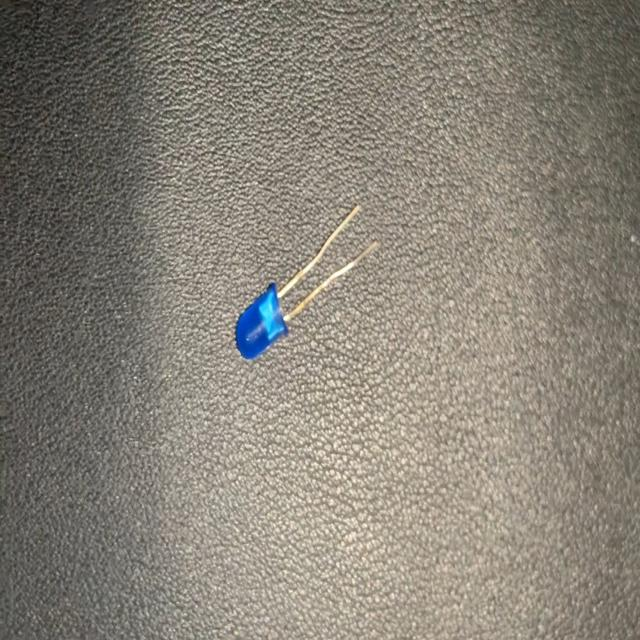LED: (235, 200, 377, 364)
